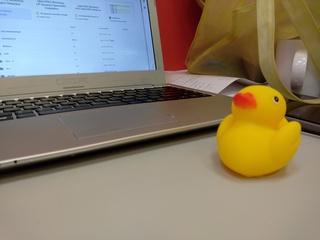duck: (211, 81, 305, 186)
